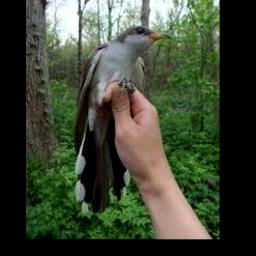Cuckoo: (74, 25, 170, 212)
